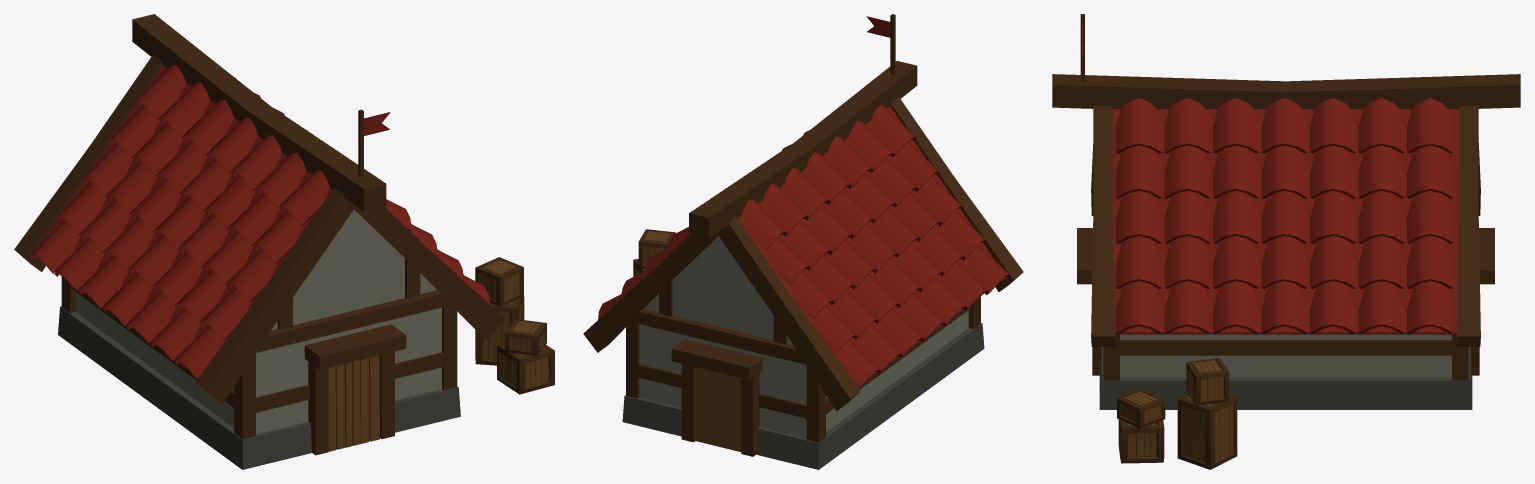
The model's file is Sin_nombre.obj.
The picture shows the model from 3 angles, left to right: view 1: azimuth 30°, elevation 25°; view 2: azimuth 150°, elevation 25°; view 3: azimuth 270°, elevation 25°; orthographic projection. The views are drawn at different scales.
Visible parts, largest first — view 1: Houses_SecondAge_1_Level2; view 2: Houses_SecondAge_1_Level2; view 3: Houses_SecondAge_1_Level2.
Boxes of the visible parts, left/top/right/bottom form: Houses_SecondAge_1_Level2: left=14, top=14, right=554, bottom=469; Houses_SecondAge_1_Level2: left=583, top=14, right=1023, bottom=469; Houses_SecondAge_1_Level2: left=1052, top=14, right=1520, bottom=469.
Bounding box in the file's own units: 1.11 × 0.9521 × 1.17.
